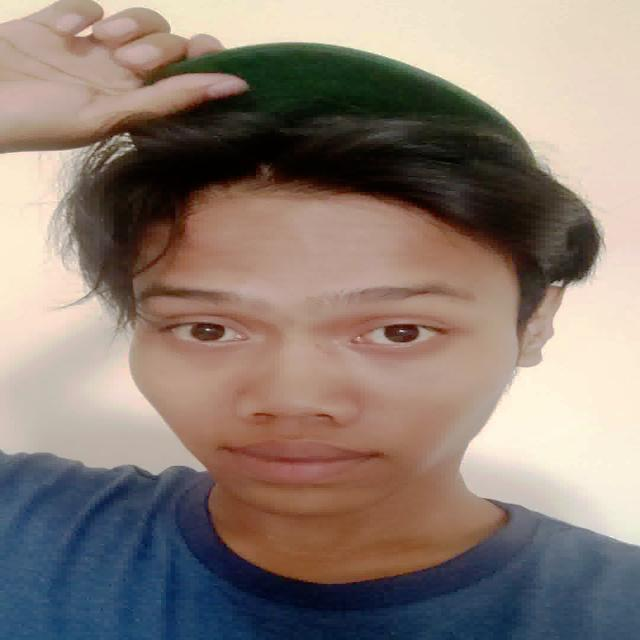TOPI: (122, 46, 542, 146)
